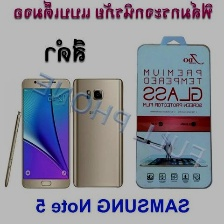book: (133, 39, 215, 192)
phone: (68, 75, 129, 191), (21, 74, 70, 191)
